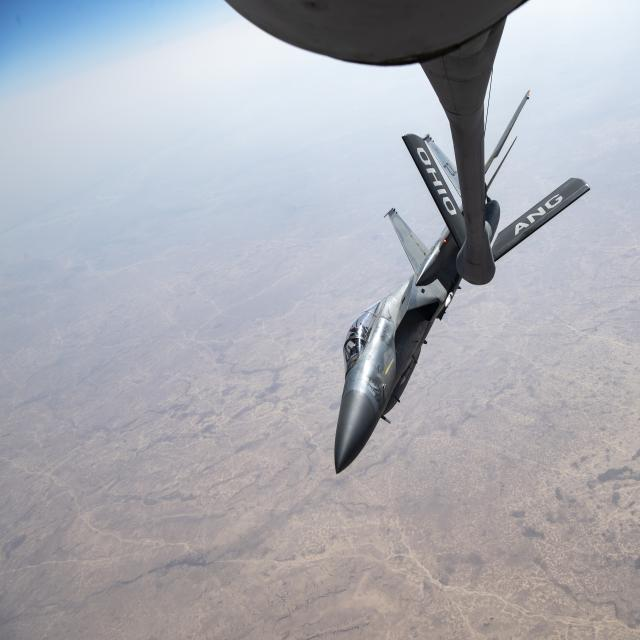MIL_Plane: (334, 90, 530, 474)
